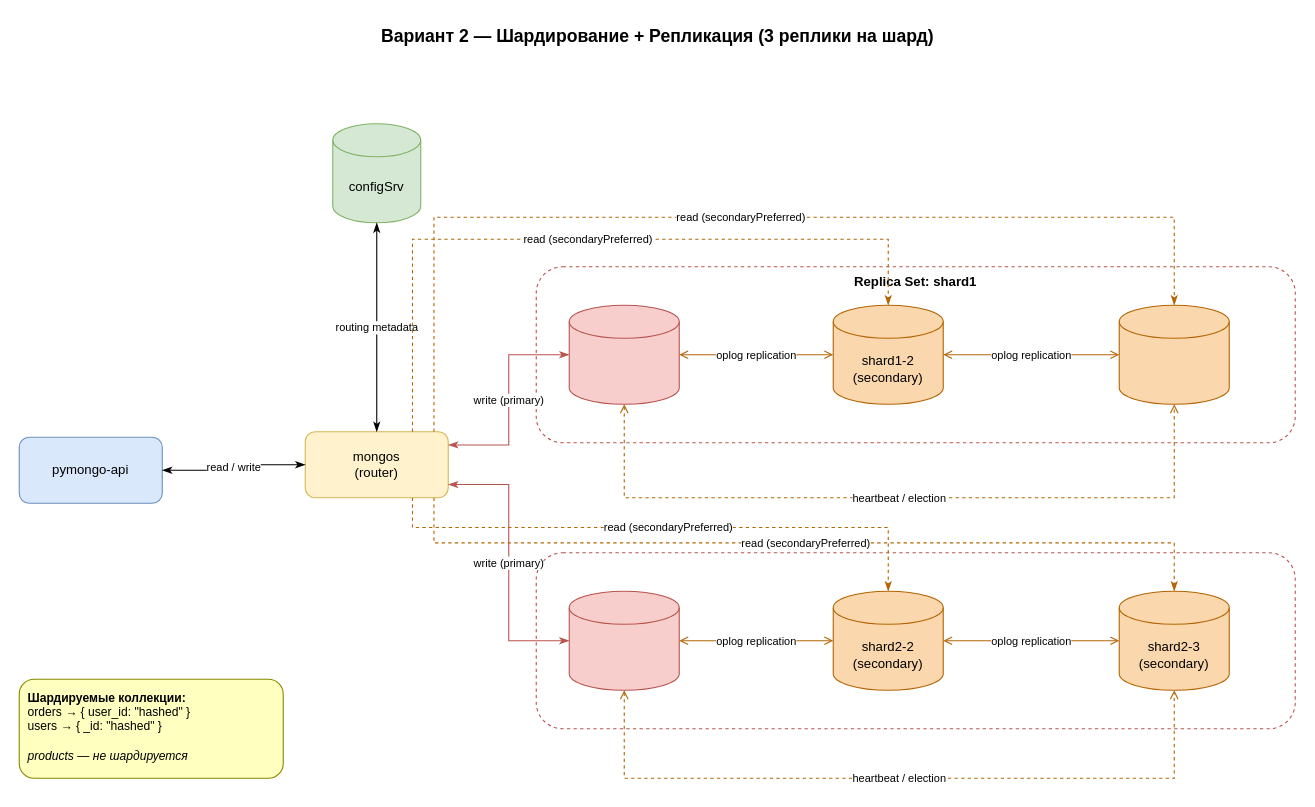
Image size: 1315x807. Some labels were removed from this diagram. The shapes that lost their labels are listed below. From the top down, each one's box as (x1, y1, x2, y2) in pixels, then its label:
(568, 304, 679, 404): shard1-1 (primary)
(1118, 304, 1229, 404): shard1-3 (secondary)
(568, 590, 679, 690): shard2-1 (primary)
(535, 552, 1295, 729): Replica Set: shard2
